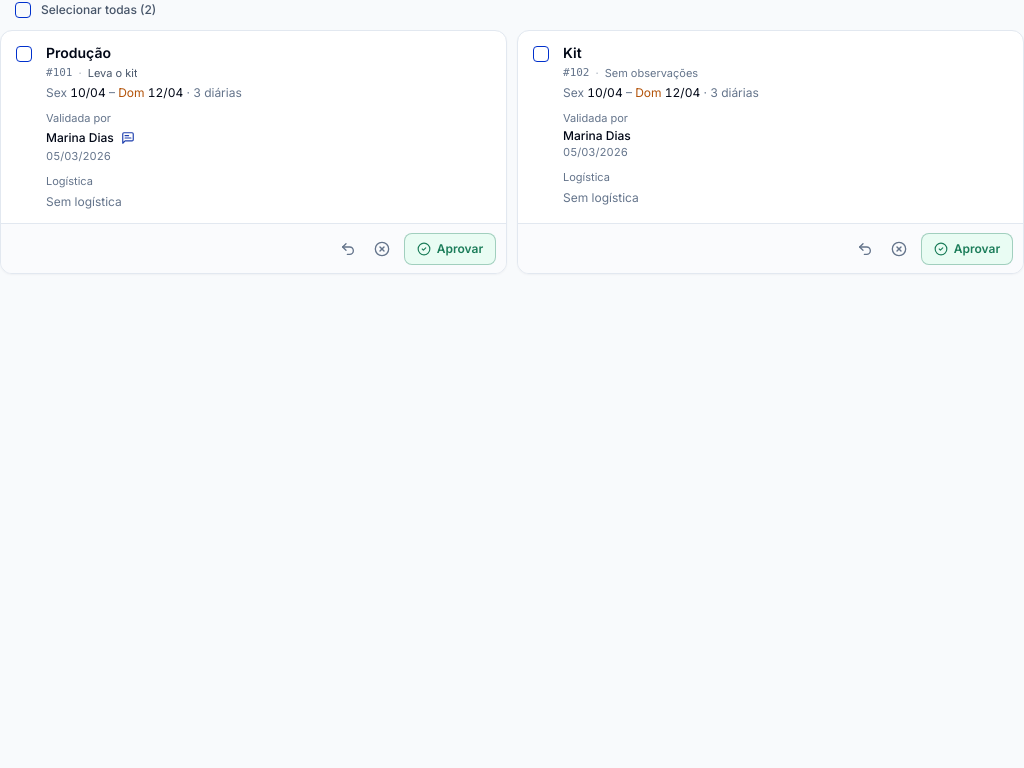
Scenario: Aprovação → detalhe da vaga no estilo da Validação › clicar na linha abre a vaga certa: #, N de total, função, evento, 'você aprova', selo e a observação com quem validou
Click the text "Leva o kit".
click(113, 73)  # box [88,65,138,81]
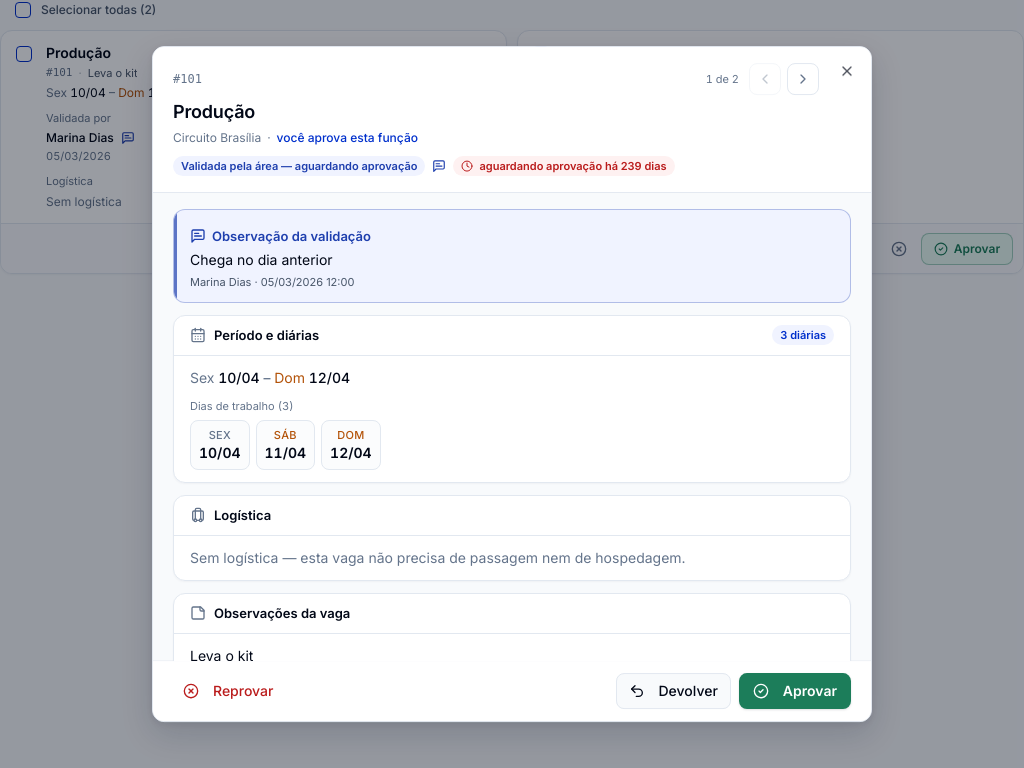
expect the dialog with test id "detalhe-da-vaga" shows "#101": met
expect the dialog with test id "detalhe-da-vaga" shows "1 de 2": met
expect the heading "Produção" is shown: met, box [173,101,255,122]
